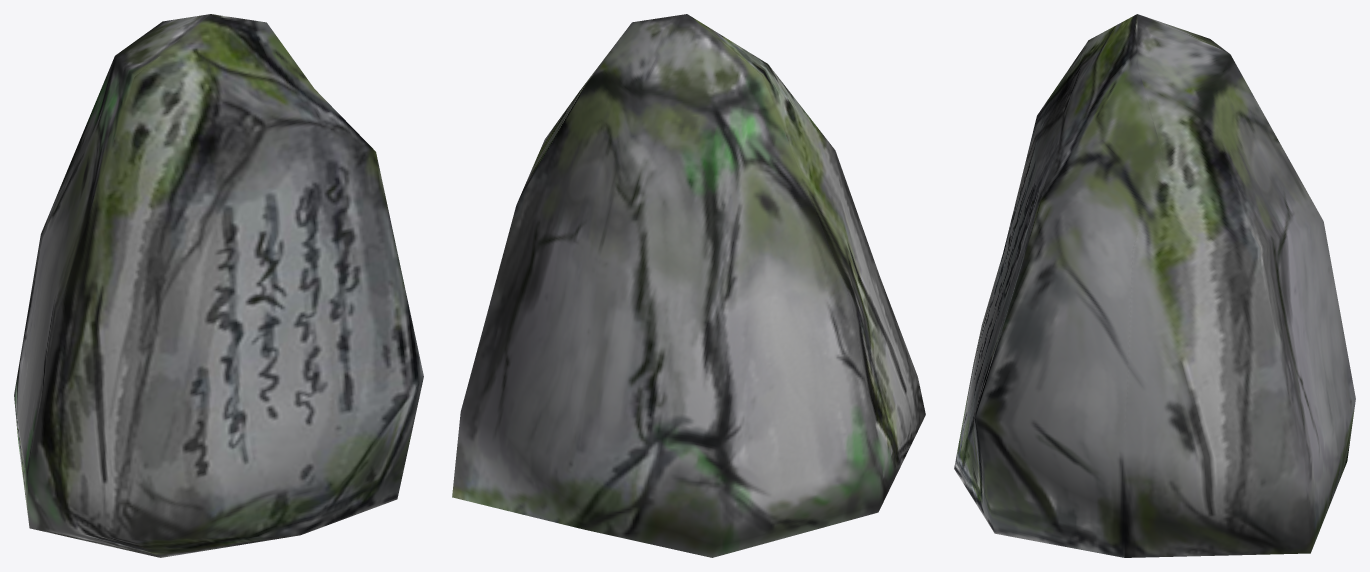
Rendered from DEC_GravestoneA.FBX.
3 views of the same model, side by side, from view 1: azimuth 30°, elevation 25°; view 2: azimuth 150°, elevation 25°; view 3: azimuth 270°, elevation 25° (orthographic).
Visible parts, largest first — view 1: DEC_GravestoneA; view 2: DEC_GravestoneA; view 3: DEC_GravestoneA.
Part boxes in pixels (x1,y1,x2,y2): DEC_GravestoneA: [14, 14, 423, 557]; DEC_GravestoneA: [452, 14, 925, 557]; DEC_GravestoneA: [954, 14, 1355, 557].
Size of the model in its own units: 108 by 130 by 101.
